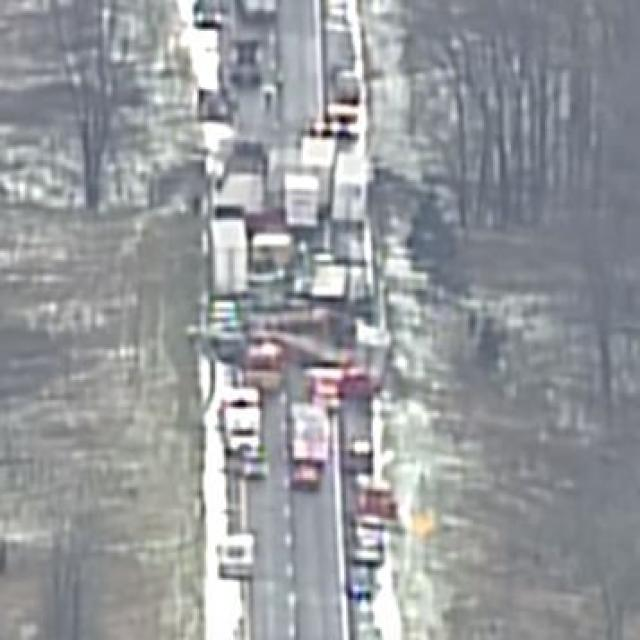traffic_incident: (199, 135, 391, 460)
